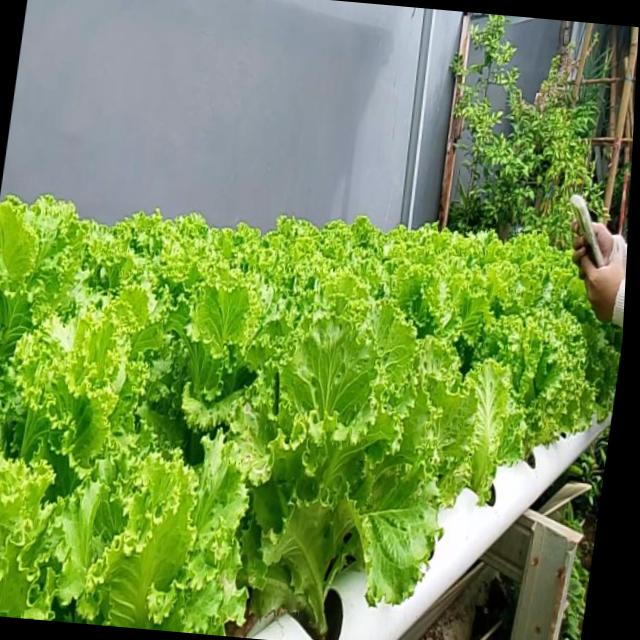Mature: (0, 193, 623, 637), (233, 327, 431, 624), (462, 276, 614, 486)
